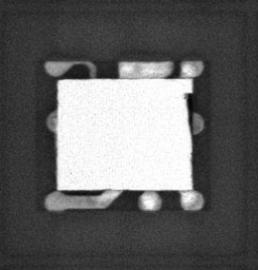DIE_BROKEN: (183, 91, 195, 136)
